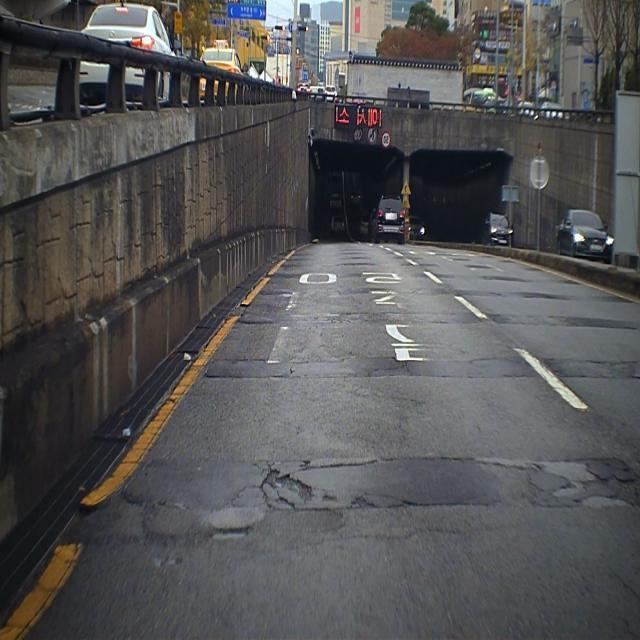pothole: (258, 463, 314, 519), (142, 518, 220, 558), (116, 488, 179, 512), (349, 489, 373, 510)
